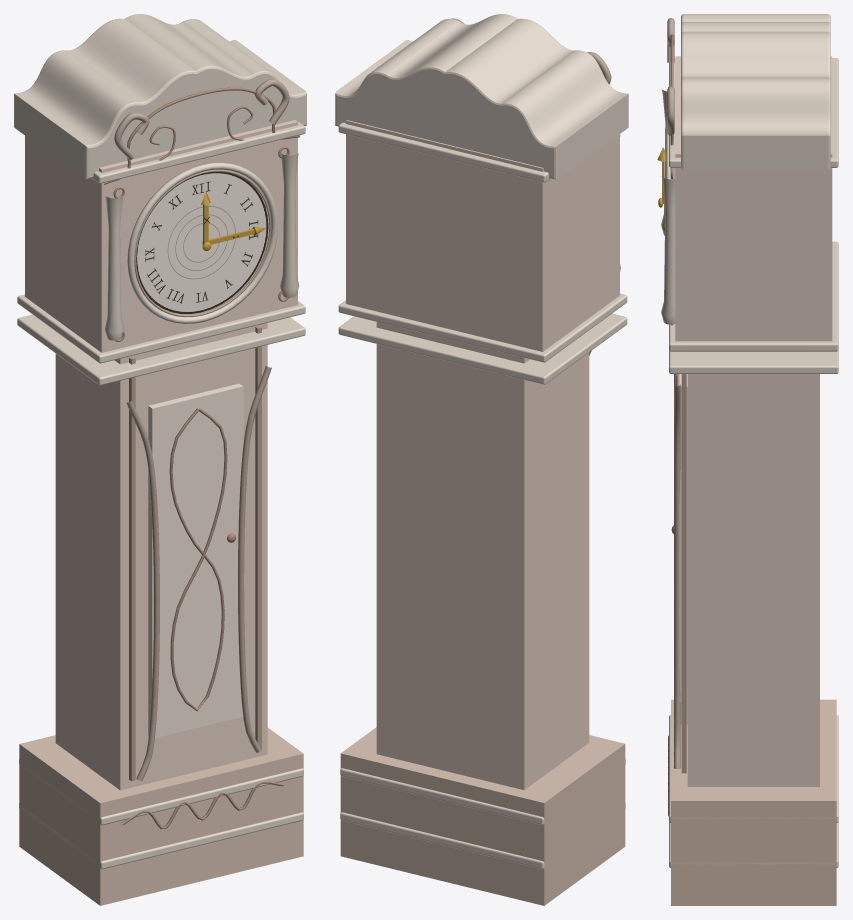
The model's file is props_p6__p6_clock.glb.
The picture shows the model from 3 angles, left to right: view 1: azimuth 30°, elevation 25°; view 2: azimuth 150°, elevation 25°; view 3: azimuth 270°, elevation 25°; orthographic projection. The views are drawn at different scales.
Visible parts, largest first — view 1: clock_trunk, clock_base, clock_sculpted_crown, clock_door, clock_hood, clock_cornice (×5), clock_face, clock_flute (×2), clock_trunk_moulding (×2), clock_face_bead (×2), clock_hood_column (×2), clock_door_inlay (+3 smaller); view 2: clock_trunk, clock_hood, clock_base, clock_sculpted_crown, clock_cornice (×5); view 3: clock_trunk, clock_hood, clock_sculpted_crown, clock_base, clock_cornice (×5), clock_trunk_moulding, clock_flute, clock_hood_column, clock_door, clock_scroll.
Boxes of the visible parts, x1,y1,x2,y2 form: clock_trunk: (55,323,267,790); clock_base: (19,727,303,905); clock_sculpted_crown: (14,14,306,179); clock_door: (148,383,243,737); clock_hood: (25,120,297,352); clock_cornice (×5): (17,122,305,869); clock_face: (136,172,268,313); clock_flute (×2): (129,326,261,781); clock_trunk_moulding (×2): (126,366,271,780); clock_face_bead (×2): (127,163,278,323); clock_hood_column (×2): (104,153,299,340); clock_door_inlay: (169,408,227,711); clock_trunk: (376,322,589,790); clock_hood: (346,120,619,351); clock_base: (340,727,625,905); clock_sculpted_crown: (335,14,628,179); clock_cornice (×5): (338,122,627,869); clock_trunk: (687,374,819,786); clock_hood: (675,56,832,341); clock_sculpted_crown: (681,14,830,170); clock_base: (671,699,836,905); clock_cornice (×5): (669,58,838,867); clock_trunk_moulding: (674,384,680,768); clock_flute: (681,374,686,773); clock_hood_column: (661,176,675,324); clock_door: (679,374,687,724); clock_scroll: (667,86,674,135).
Size of the model in its own units: 0.632 by 2.21 by 0.438.
55 materials, 3 textured.
